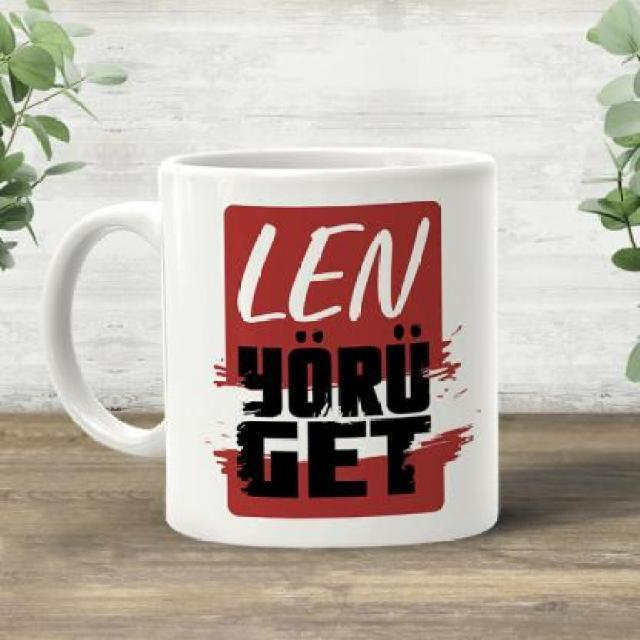taza: (41, 144, 502, 546)
